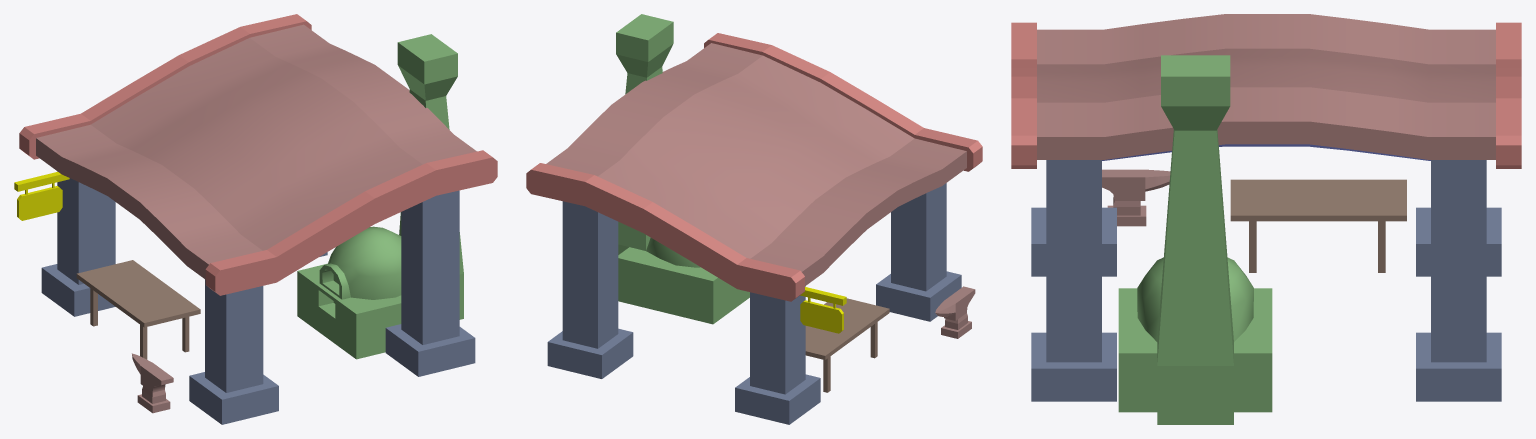
File: Herreria blendshape.fbx
The picture shows the model from 3 angles, left to right: view 1: azimuth 30°, elevation 25°; view 2: azimuth 150°, elevation 25°; view 3: azimuth 270°, elevation 25°; orthographic projection. The views are drawn at different scales.
Visible parts, largest first — view 1: pCube17; view 2: pCube17; view 3: pCube17.
Boxes of the visible parts, <box> form: pCube17: <box>14,14,497,424</box>; pCube17: <box>526,14,982,424</box>; pCube17: <box>1011,14,1521,424</box>.
Bounding box in the file's own units: 27.05 × 20.66 × 27.65.
